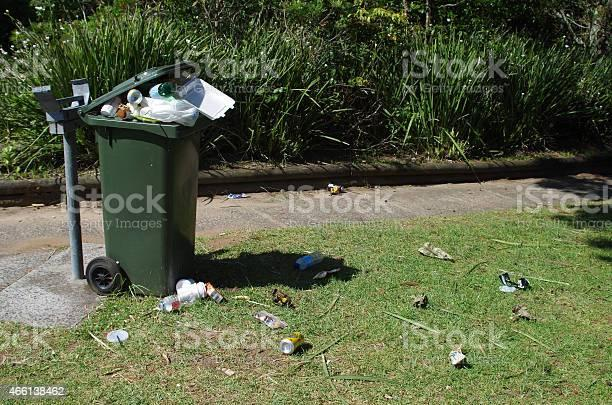bottle: (31, 290, 78, 316), (294, 246, 327, 275), (3, 7, 22, 25), (23, 0, 52, 8)
